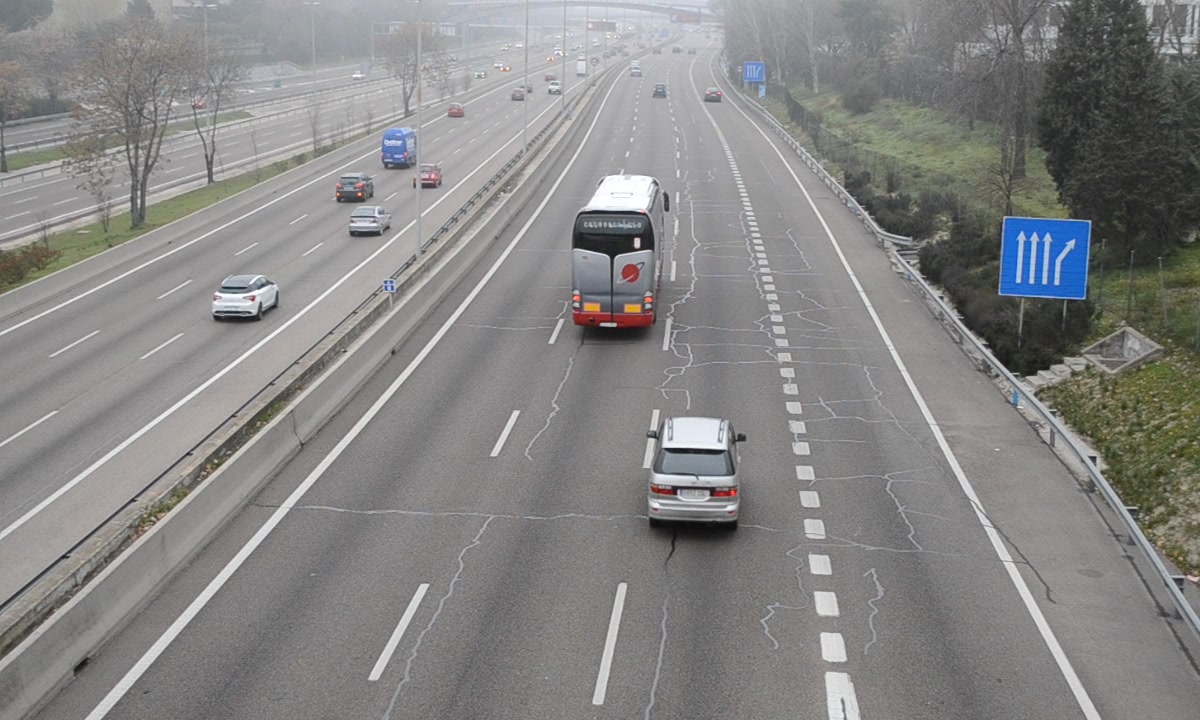bus: (573, 175, 667, 333)
car: (645, 416, 743, 524)
